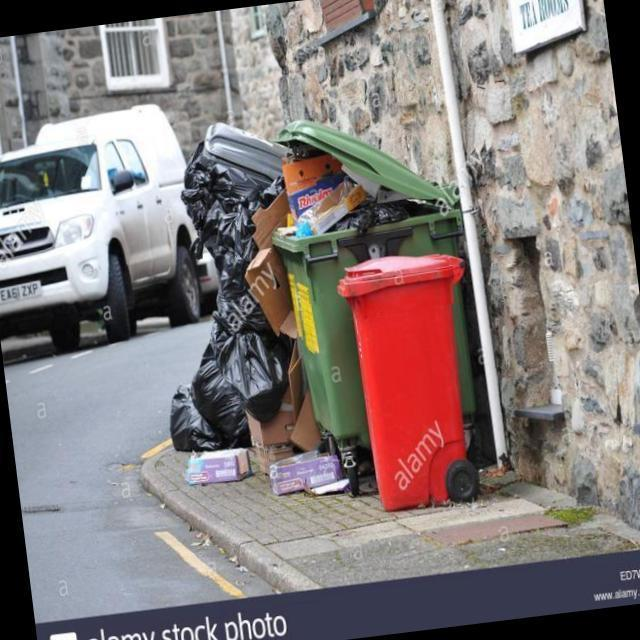garbage: (144, 251, 319, 484), (172, 136, 366, 247), (264, 436, 366, 508)
